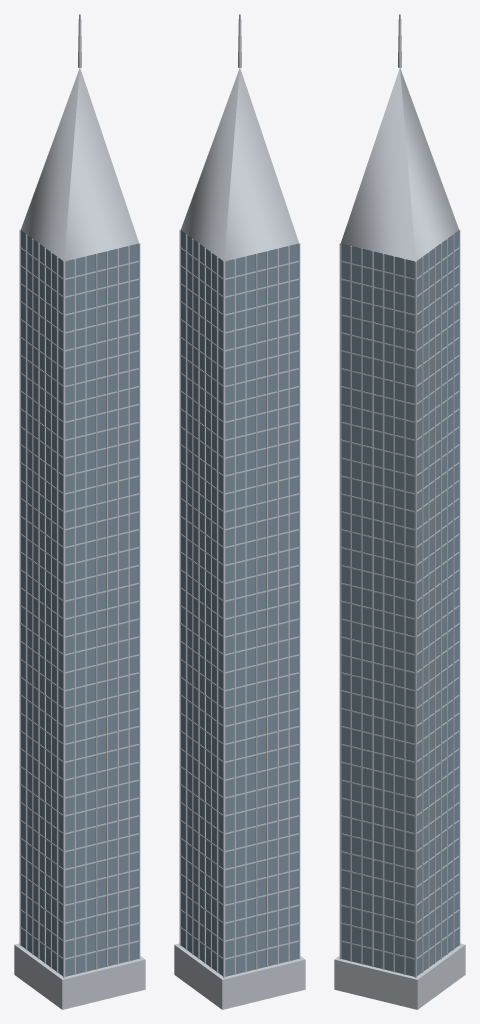
File: canadasq.glb
3 views of the same model, side by side, from view 1: azimuth 30°, elevation 25°; view 2: azimuth 210°, elevation 25°; view 3: azimuth 330°, elevation 25° (orthographic).
Parts seen in each view (by area): view 1: canadasq; view 2: canadasq; view 3: canadasq.
Part boxes in pixels (x1=…): canadasq: x1=14, y1=14, x2=145, y2=1009; canadasq: x1=174, y1=14, x2=305, y2=1009; canadasq: x1=334, y1=14, x2=465, y2=1009.
Bounding box in the file's own units: 0.4671 × 5.19 × 0.4671.
